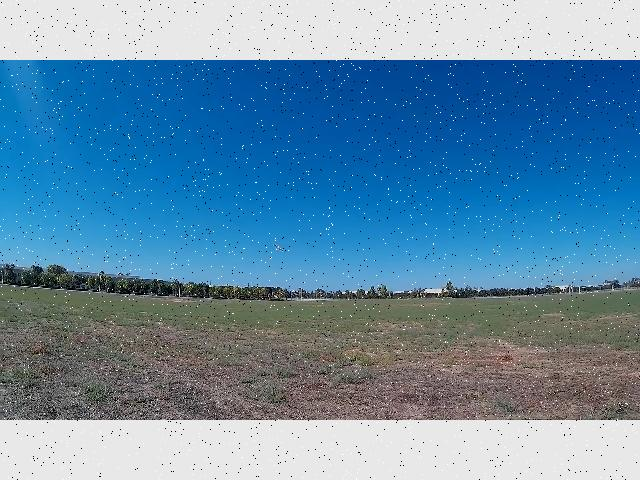Anti-Drone: (274, 245, 284, 251)
